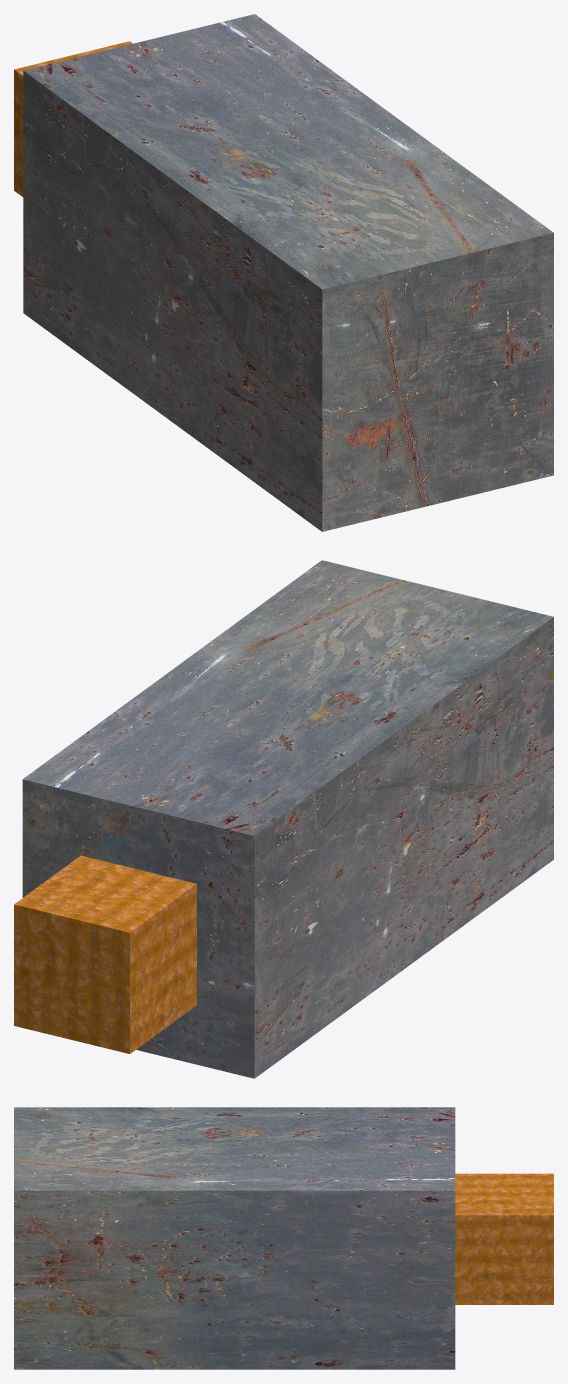
Rendered from enemy.dae.
3 views of the same model, one above another, from view 1: azimuth 30°, elevation 25°; view 2: azimuth 150°, elevation 25°; view 3: azimuth 270°, elevation 25° (orthographic). The views are drawn at different scales.
Visible parts, largest first — view 1: Cube, Cube_001; view 2: Cube, Cube_001; view 3: Cube, Cube_001.
Part boxes in pixels (bbox=[...]): Cube: bbox=[23, 14, 553, 531]; Cube_001: bbox=[14, 41, 132, 196]; Cube: bbox=[22, 560, 553, 1078]; Cube_001: bbox=[14, 855, 196, 1053]; Cube: bbox=[14, 1107, 455, 1369]; Cube_001: bbox=[455, 1173, 553, 1304].
Bounding box in the file's own units: 1 × 2.73 × 1.
Materials: 2 (2 with a texture image).
